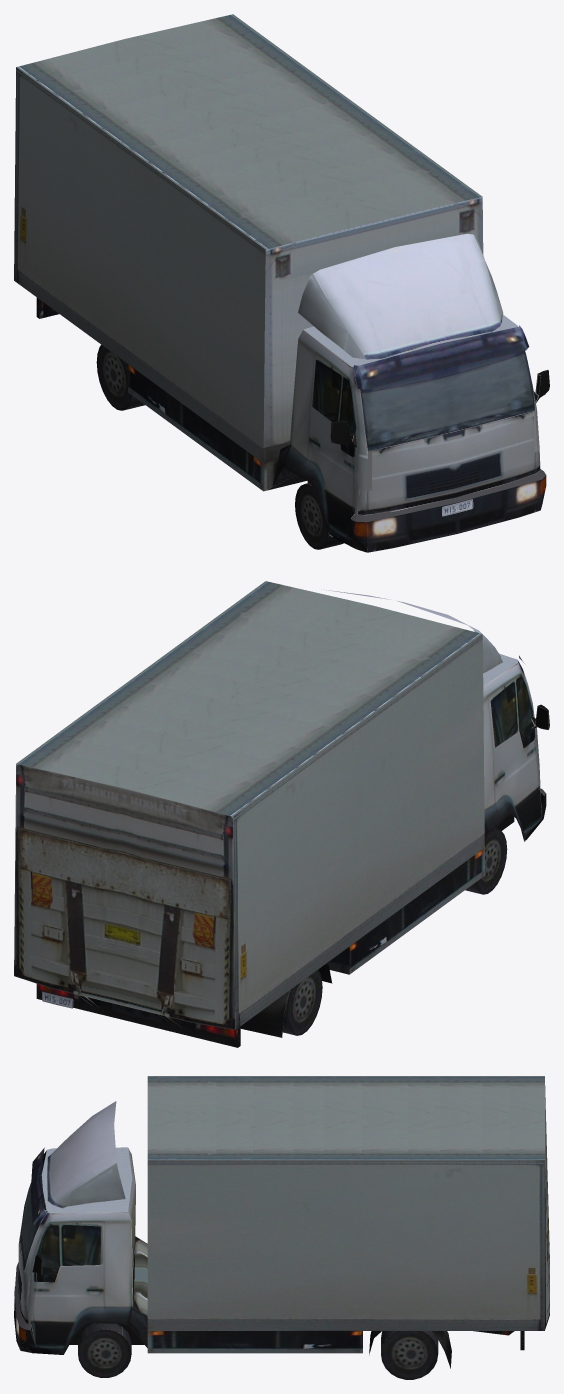
The model's file is kache1.gltf.
The picture shows the model from 3 angles, top to bottom: view 1: azimuth 30°, elevation 25°; view 2: azimuth 150°, elevation 25°; view 3: azimuth 270°, elevation 25°; orthographic projection. The views are drawn at different scales.
Parts seen in each view (by area): view 1: 17lorry; view 2: 17lorry; view 3: 17lorry.
Boxes of the visible parts, x1,y1,x2,y2 form: 17lorry: (14,14,549,552); 17lorry: (14,581,549,1047); 17lorry: (14,1076,549,1379).
Size of the model in its own units: 2.83 by 3.47 by 7.45.
Materials: 1 (1 with a texture image).
